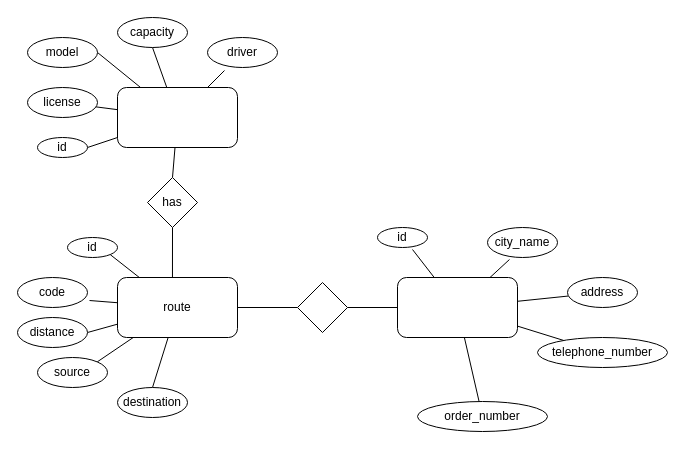
This 685x449 diagram has some shape labels left out. Each missing label, with the box of its shape:
bus: (116, 86, 238, 148)
bus station: (396, 276, 518, 338)
covers: (296, 282, 348, 332)
